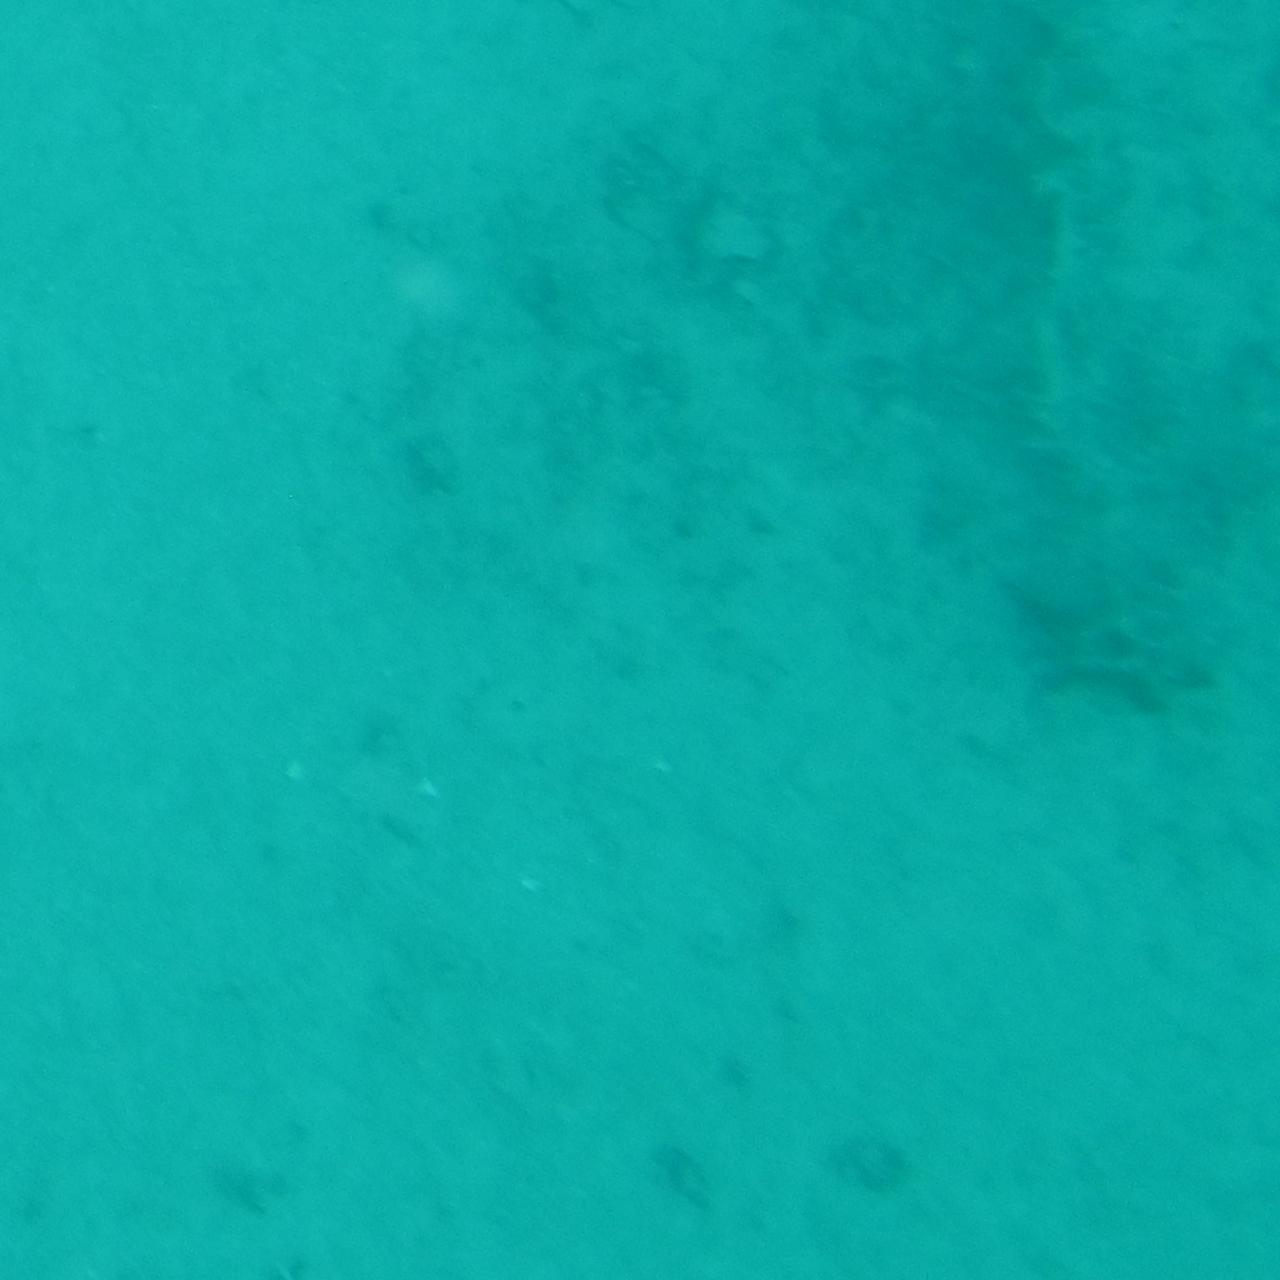Asteroidea: (994, 551, 1234, 729)
